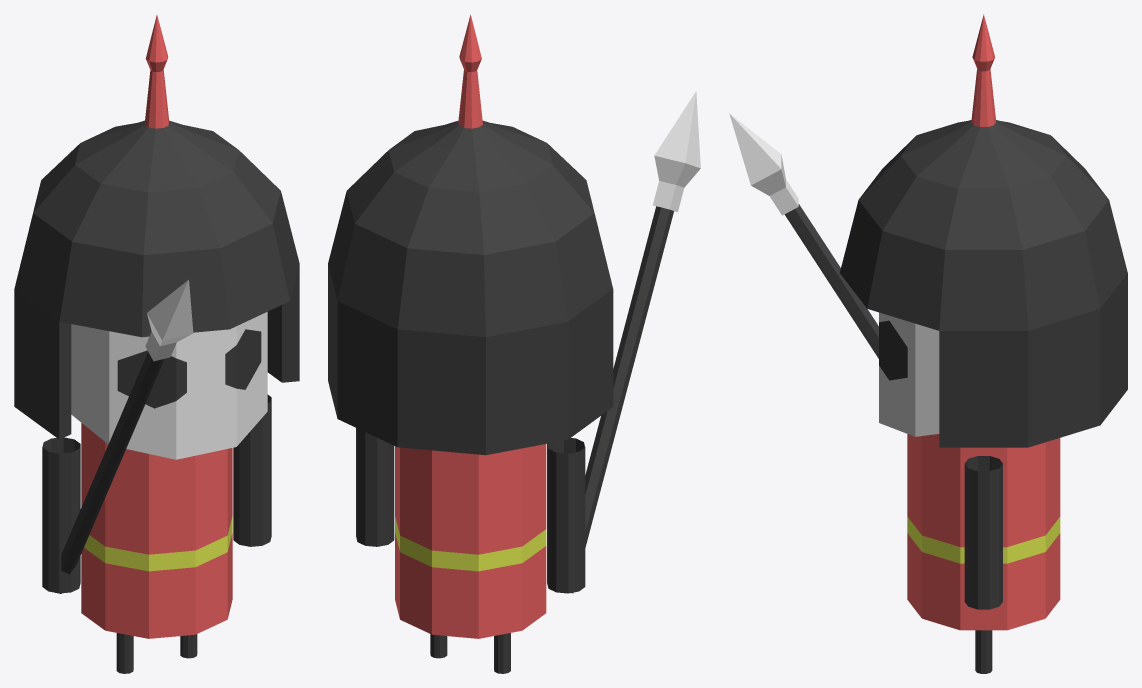
Rendered from Soldier02.obj.
3 renders of one model, left to right at view 1: azimuth 30°, elevation 25°; view 2: azimuth 150°, elevation 25°; view 3: azimuth 270°, elevation 25°, orthographic.
Parts seen in each view (by area): view 1: Soldier02, Spear01; view 2: Soldier02, Spear01; view 3: Soldier02, Spear01.
Boxes of the visible parts, x1,y1,x2,y2 form: Soldier02: (14,15,299,673); Spear01: (60,279,193,593); Soldier02: (328,14,613,673); Spear01: (572,91,700,593); Soldier02: (840,14,1127,673); Spear01: (729,113,878,358).
Bounding box in the file's own units: 0.7695 × 1.99 × 1.12.
1 material, 1 textured.
